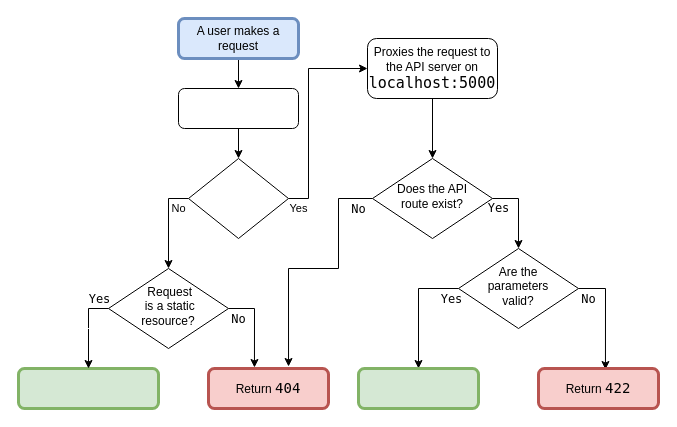
Image size: 677x427. Some labels were removed from this diagram. The centre of each missing label's shape, as x and y in pixels:
"Nginx receives the request" belongs at pixel 238 108.
"Request start with /api/ ?" belongs at pixel 238 198.
"Return static resource" belongs at pixel 88 388.
"Run API endpoint and return result" belongs at pixel 418 388.
